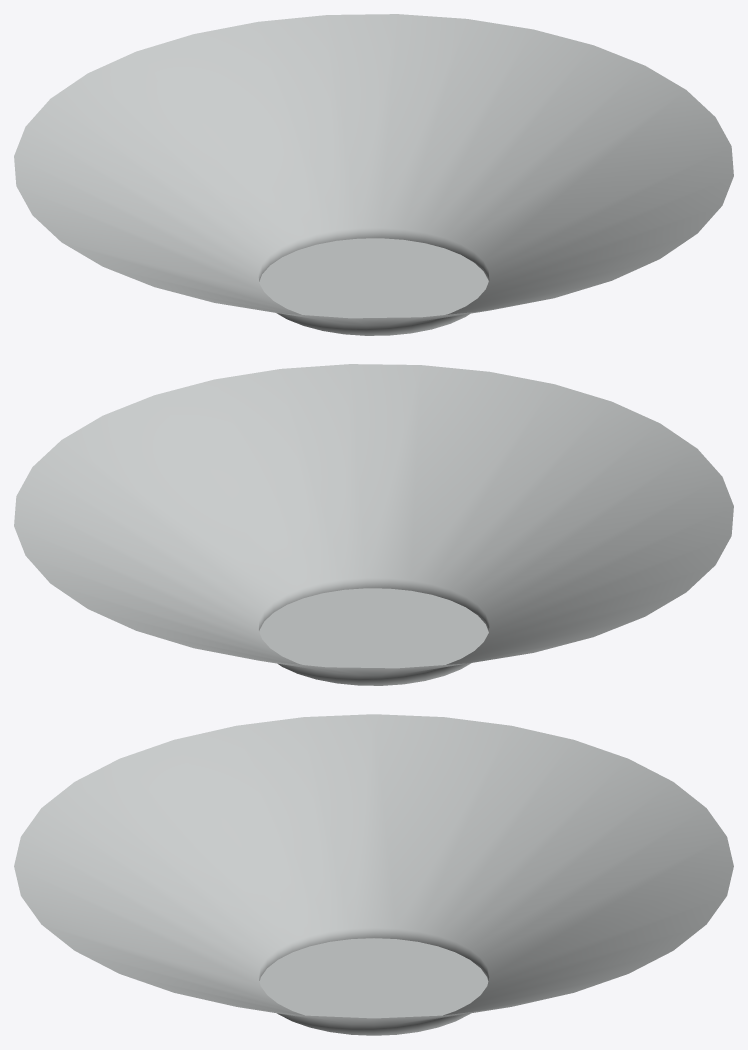
The model's file is Bowl.fbx.
The picture shows the model from 3 angles, top to bottom: view 1: azimuth 30°, elevation 25°; view 2: azimuth 150°, elevation 25°; view 3: azimuth 270°, elevation 25°; orthographic projection.
Visible parts, largest first — view 1: Bowl; view 2: Bowl; view 3: Bowl.
Part boxes in pixels (bbox=[...]): Bowl: bbox=[14, 14, 733, 335]; Bowl: bbox=[14, 364, 733, 685]; Bowl: bbox=[14, 714, 733, 1035].
Size of the model in its own units: 62.32 by 11.52 by 62.32.
